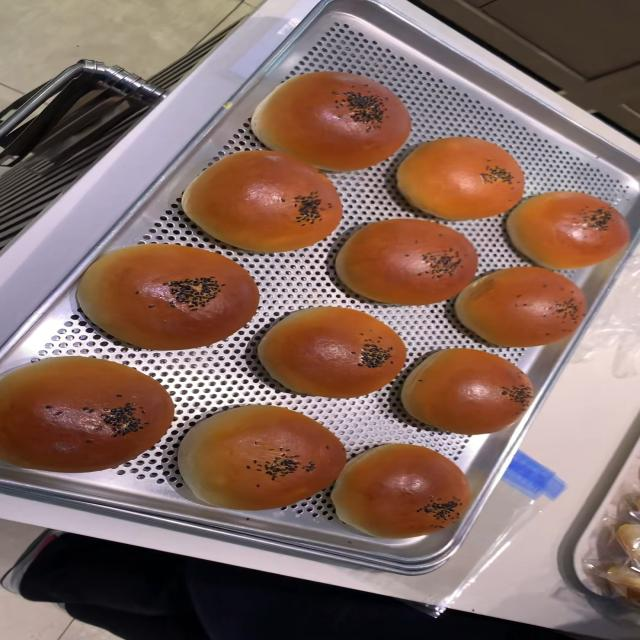bread: (71, 238, 263, 351), (0, 354, 178, 474), (180, 402, 356, 514), (247, 70, 411, 176), (178, 151, 342, 252), (387, 345, 541, 440), (330, 442, 475, 542), (332, 215, 482, 308), (257, 306, 407, 396), (387, 130, 527, 224), (449, 260, 587, 348), (506, 184, 632, 270)
